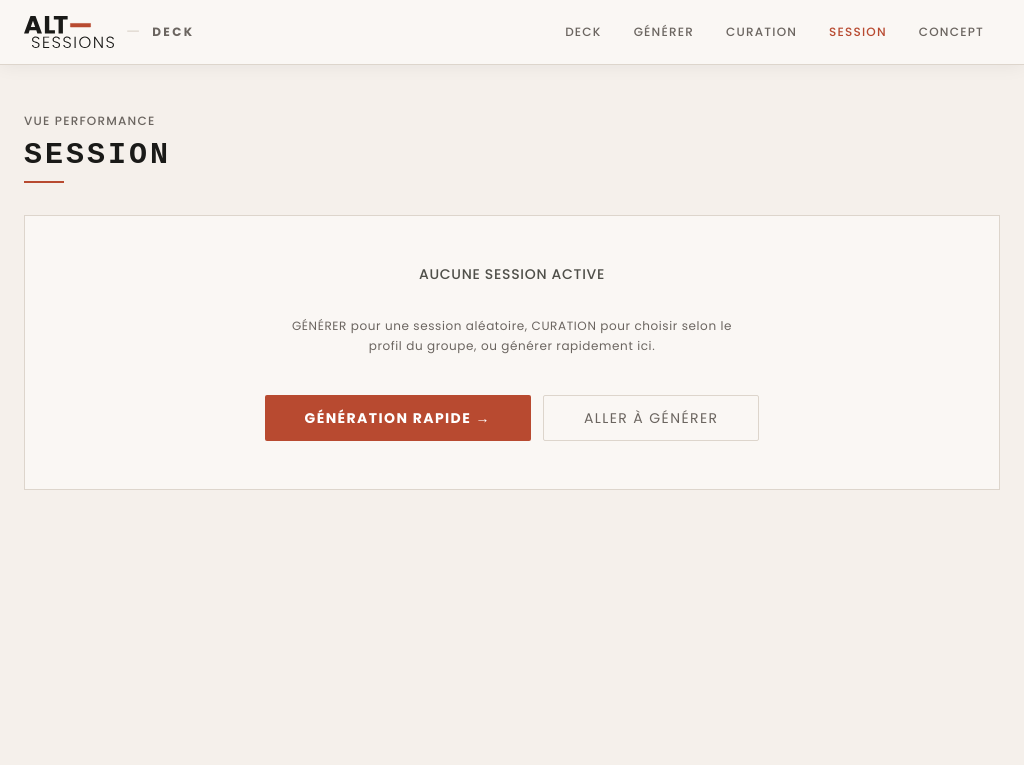
Test: Session page — empty state › quick generate creates a session
Click the button "GÉNÉRATION RAPIDE →" at point(398, 418), box [265,395,531,441]
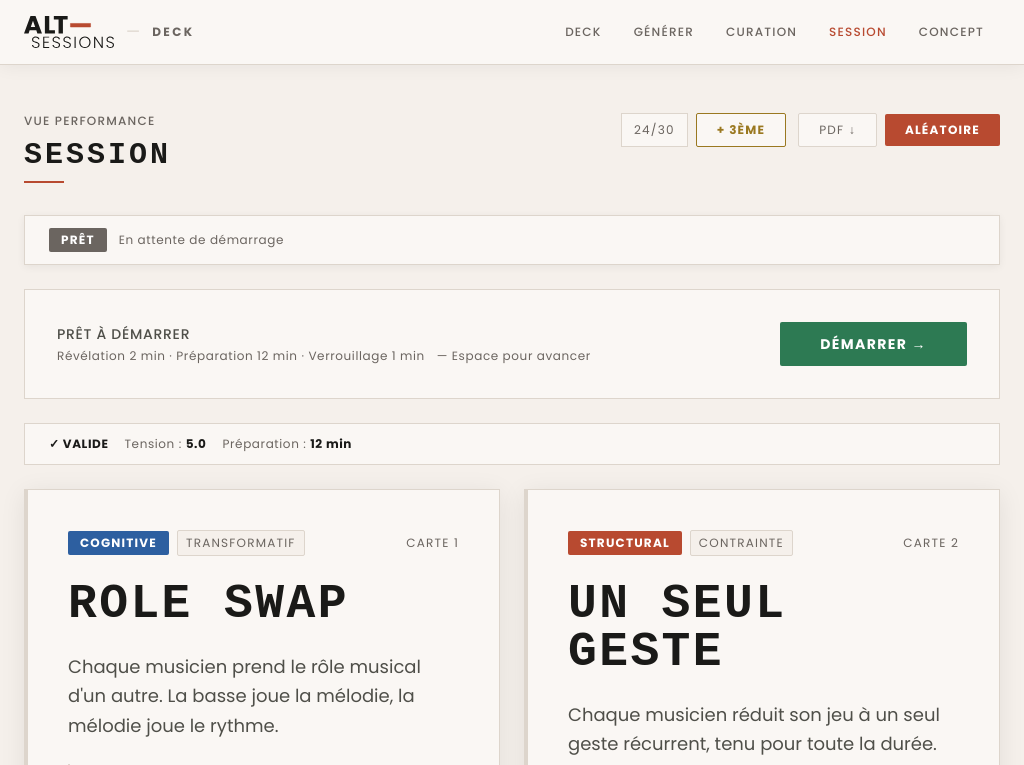
Check: the button "DÉMARRER →" is shown, box [780,322,967,366]
